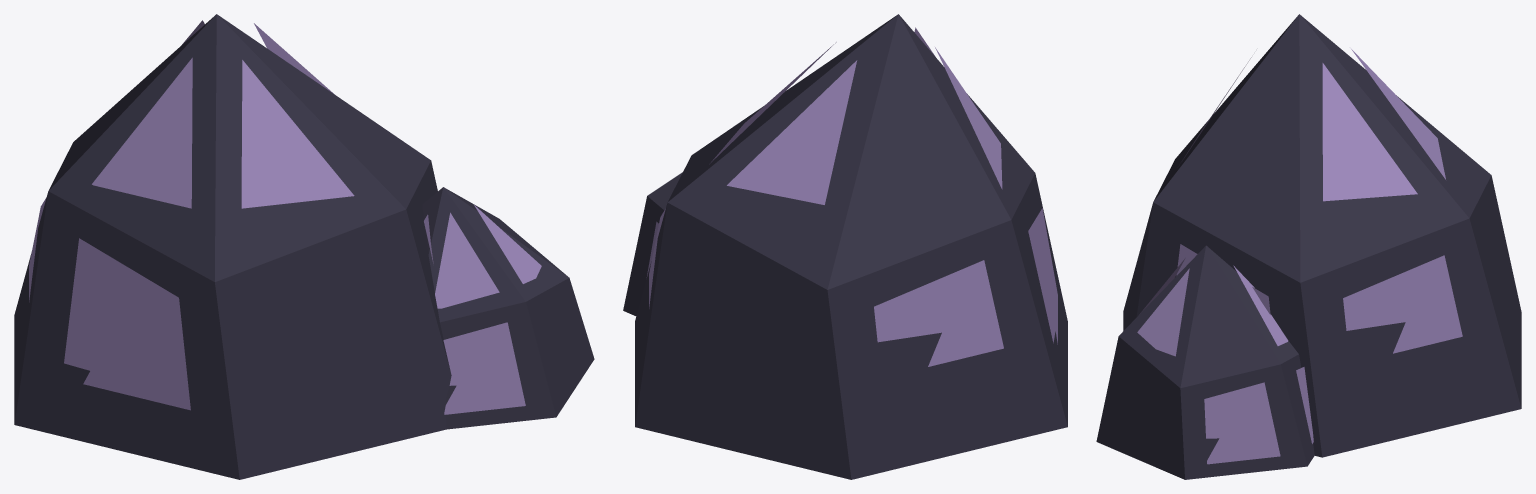
3 renders of one model, left to right at view 1: azimuth 30°, elevation 25°; view 2: azimuth 150°, elevation 25°; view 3: azimuth 270°, elevation 25°, orthographic. The views are drawn at different scales.
Visible parts, largest first — view 1: 7eef385146bbb448b43b47514a7506c2ad2b16dabff296246f08405dbbe9; view 2: 7eef385146bbb448b43b47514a7506c2ad2b16dabff296246f08405dbbe9; view 3: 7eef385146bbb448b43b47514a7506c2ad2b16dabff296246f08405dbbe9.
Part boxes in pixels (box(x1,y1,x2,y2)): 7eef385146bbb448b43b47514a7506c2ad2b16dabff296246f08405dbbe9: box(14, 14, 594, 479); 7eef385146bbb448b43b47514a7506c2ad2b16dabff296246f08405dbbe9: box(623, 14, 1067, 479); 7eef385146bbb448b43b47514a7506c2ad2b16dabff296246f08405dbbe9: box(1096, 14, 1521, 479).
Bounding box in the file's own units: 0.892 × 0.635 × 0.7394.
